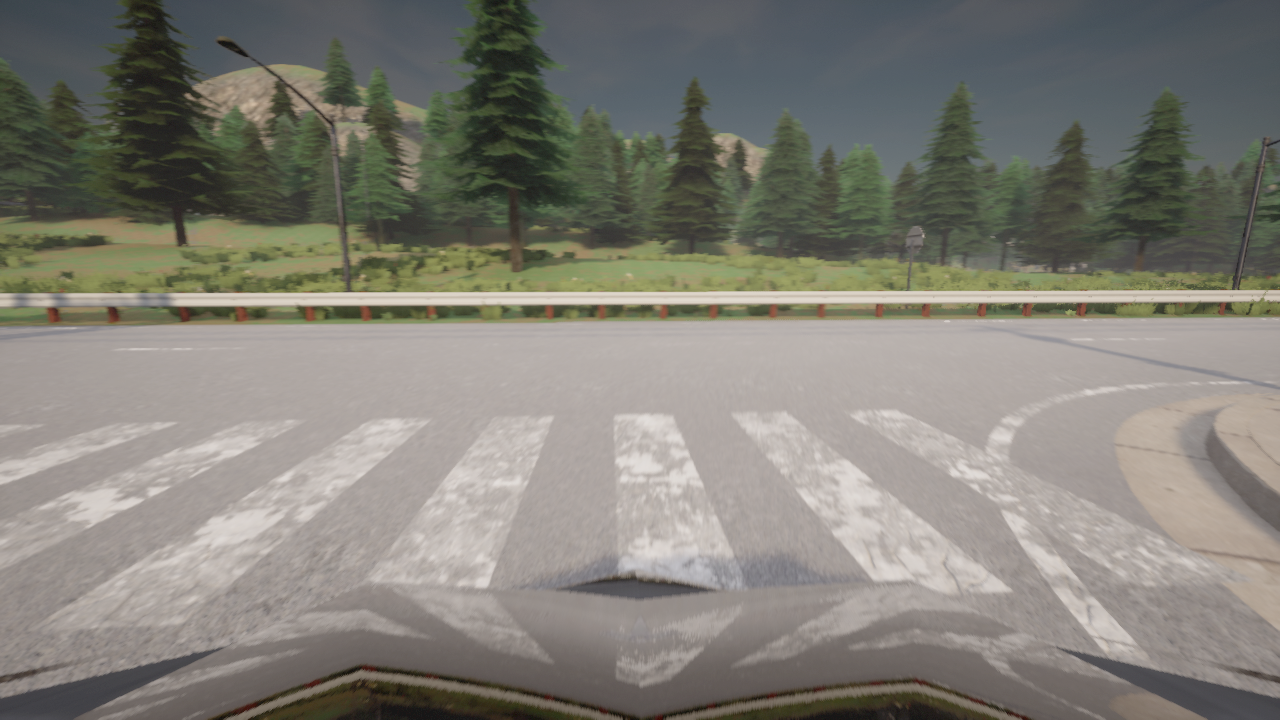cyclist: (0, 569, 1279, 719)
